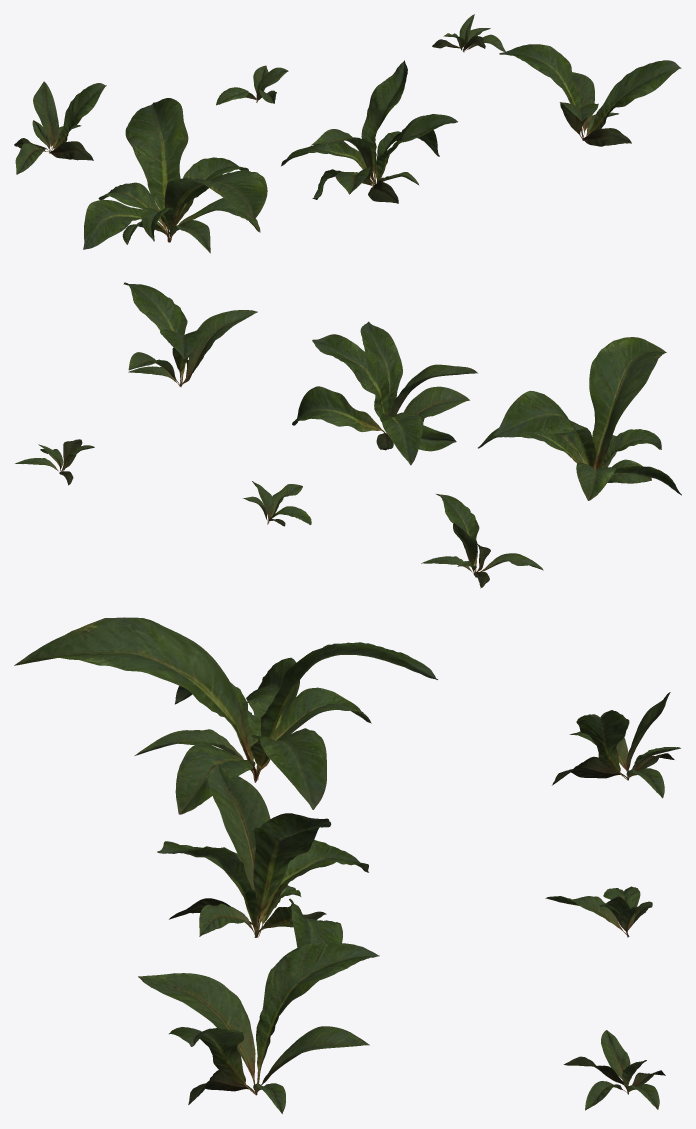
The model's file is anthurium_botany_01.gltf.
3 views of the same model, one above another, from view 1: azimuth 30°, elevation 25°; view 2: azimuth 150°, elevation 25°; view 3: azimuth 270°, elevation 25° (orthographic). The views are drawn at different scales.
Parts seen in each view (by area): view 1: anthurium_botany_01_a, anthurium_botany_01_b, anthurium_botany_01_c, anthurium_botany_04_d, anthurium_botany_05_e, anthurium_botany_06_f; view 2: anthurium_botany_01_a, anthurium_botany_01_b, anthurium_botany_01_c, anthurium_botany_04_d, anthurium_botany_05_e, anthurium_botany_06_f; view 3: anthurium_botany_01_a, anthurium_botany_01_b, anthurium_botany_01_c, anthurium_botany_04_d, anthurium_botany_06_f, anthurium_botany_05_e.
Part boxes in pixels (box(x1,y1,x2,y2)): anthurium_botany_01_a: box(83, 98, 267, 253); anthurium_botany_01_b: box(281, 60, 457, 203); anthurium_botany_01_c: box(499, 44, 681, 146); anthurium_botany_04_d: box(14, 81, 106, 174); anthurium_botany_05_e: box(216, 65, 288, 105); anthurium_botany_06_f: box(432, 14, 505, 52); anthurium_botany_01_a: box(478, 337, 681, 500); anthurium_botany_01_b: box(292, 321, 477, 465); anthurium_botany_01_c: box(123, 282, 257, 386); anthurium_botany_04_d: box(421, 494, 543, 588); anthurium_botany_05_e: box(243, 481, 311, 526); anthurium_botany_06_f: box(15, 439, 94, 485); anthurium_botany_01_a: box(14, 617, 437, 814); anthurium_botany_01_b: box(157, 763, 368, 981); anthurium_botany_01_c: box(138, 942, 379, 1113); anthurium_botany_04_d: box(552, 692, 680, 798); anthurium_botany_06_f: box(563, 1030, 665, 1110); anthurium_botany_05_e: box(545, 886, 652, 937).
Size of the model in its own units: 2.8 by 0.4997 by 1.8.
Materials: 1 (1 with a texture image).
